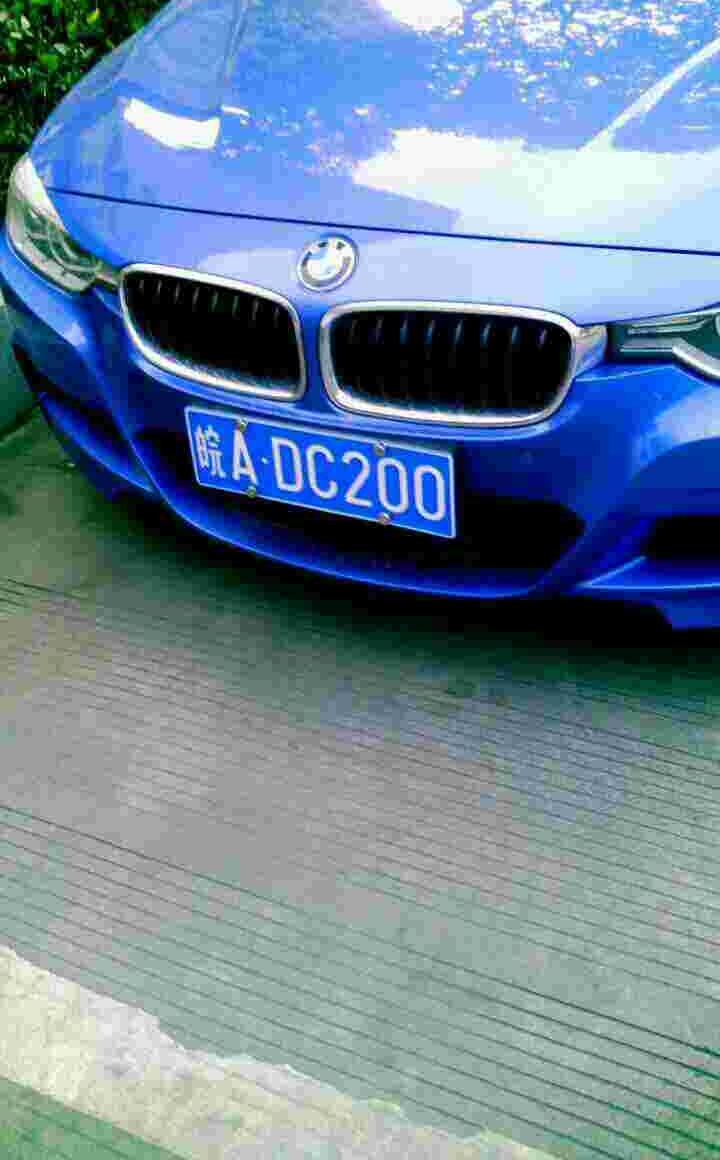license_plate: (180, 404, 457, 535)
